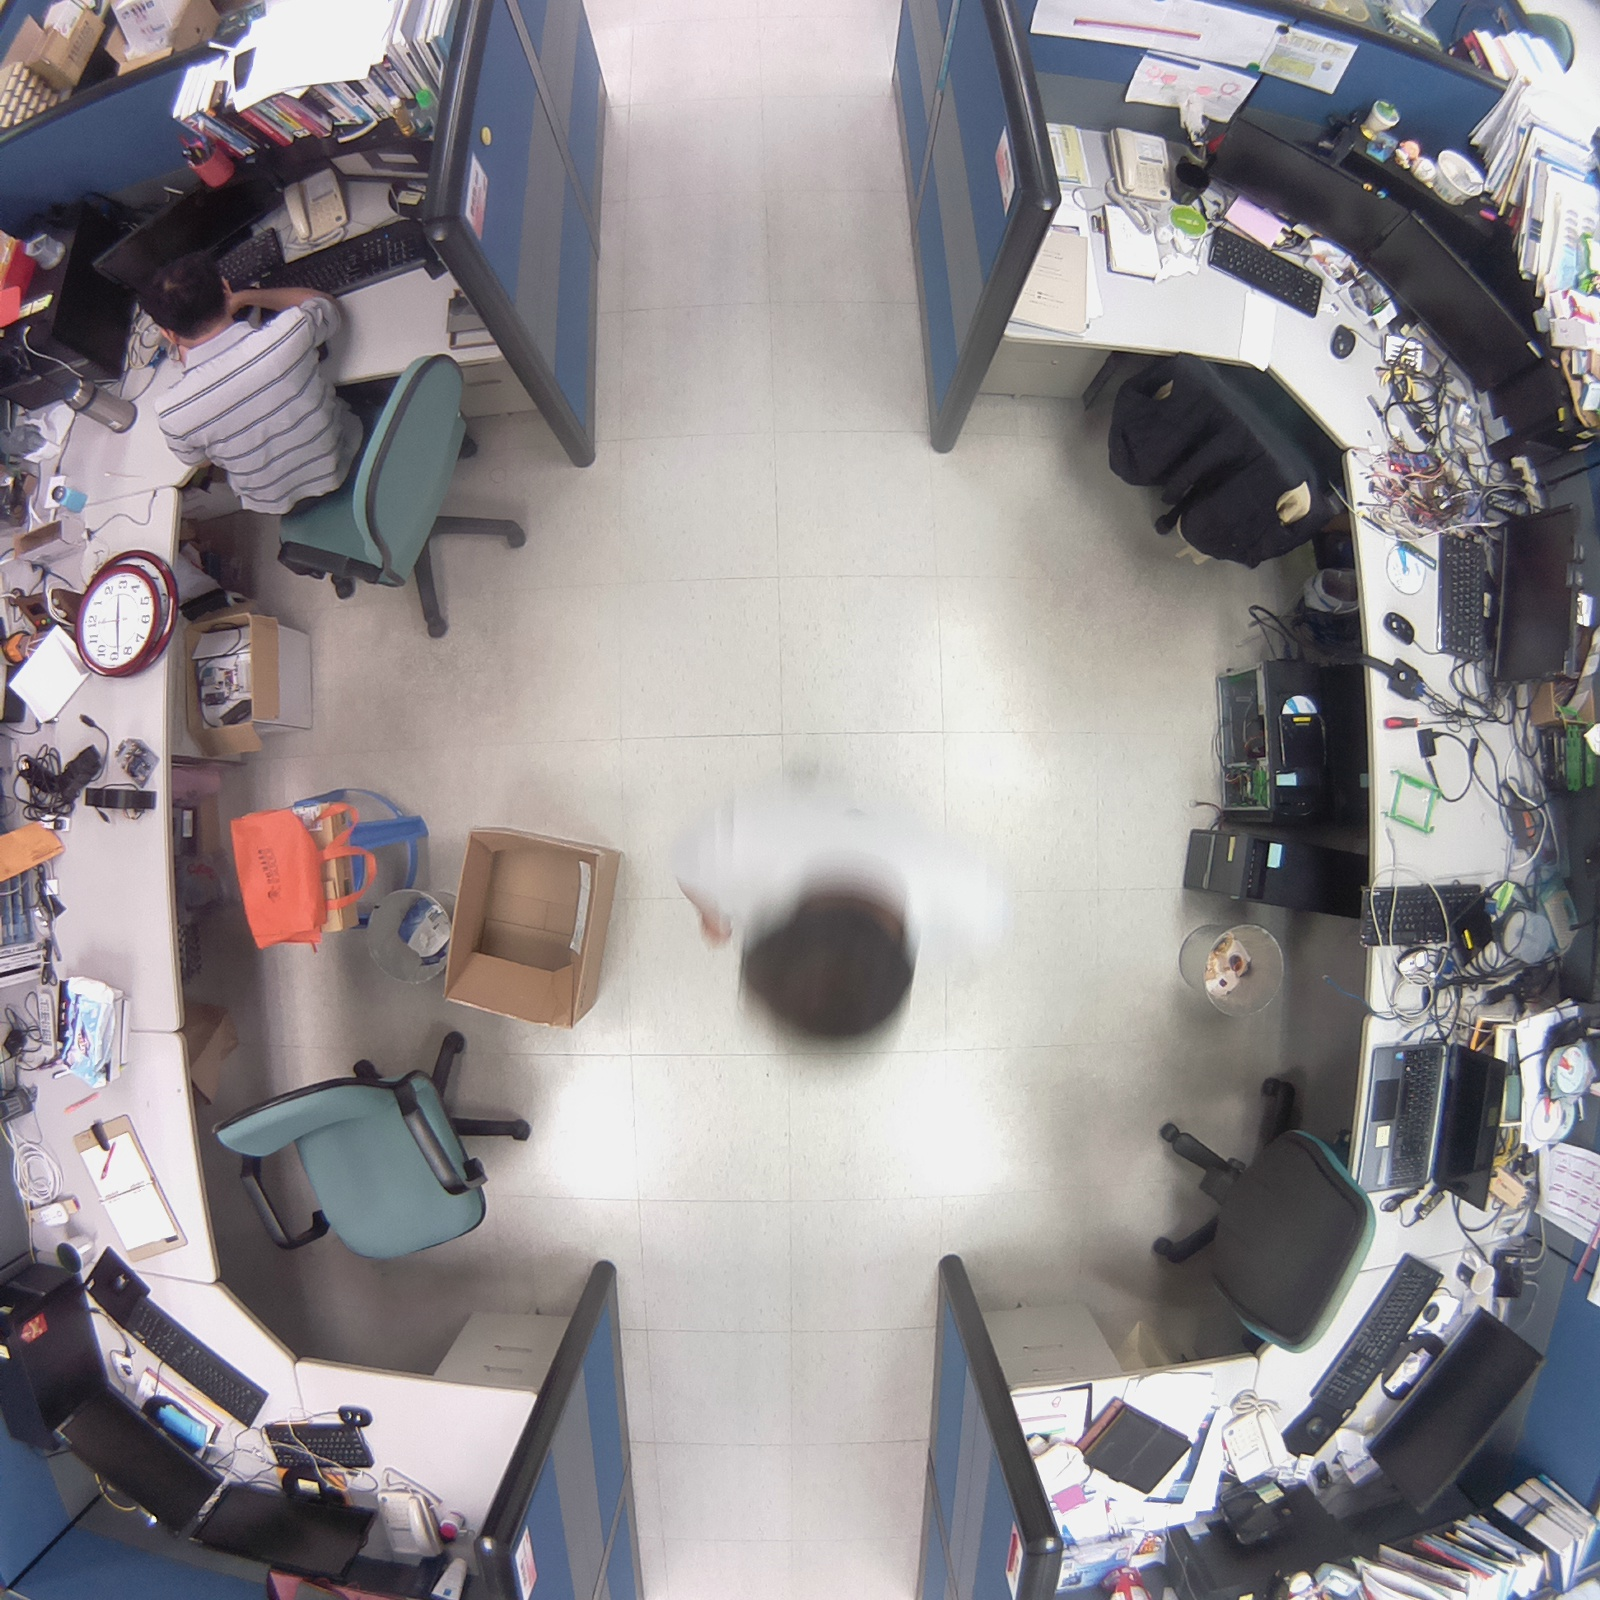chair: (194, 1009, 553, 1296), (1114, 1052, 1388, 1375), (1096, 324, 1345, 581)
head: (723, 878, 937, 1063), (123, 249, 241, 349)
sitting: (125, 251, 555, 663)
walking: (639, 754, 1019, 1074)
